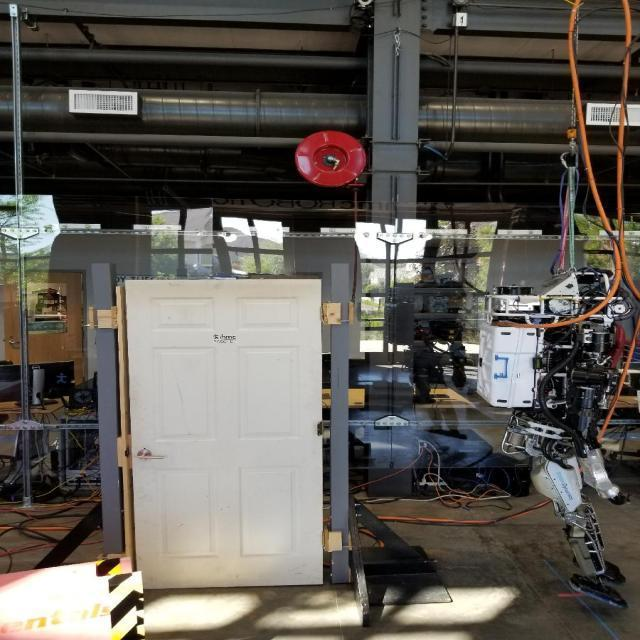door: (122, 278, 328, 596), (135, 446, 169, 462)
